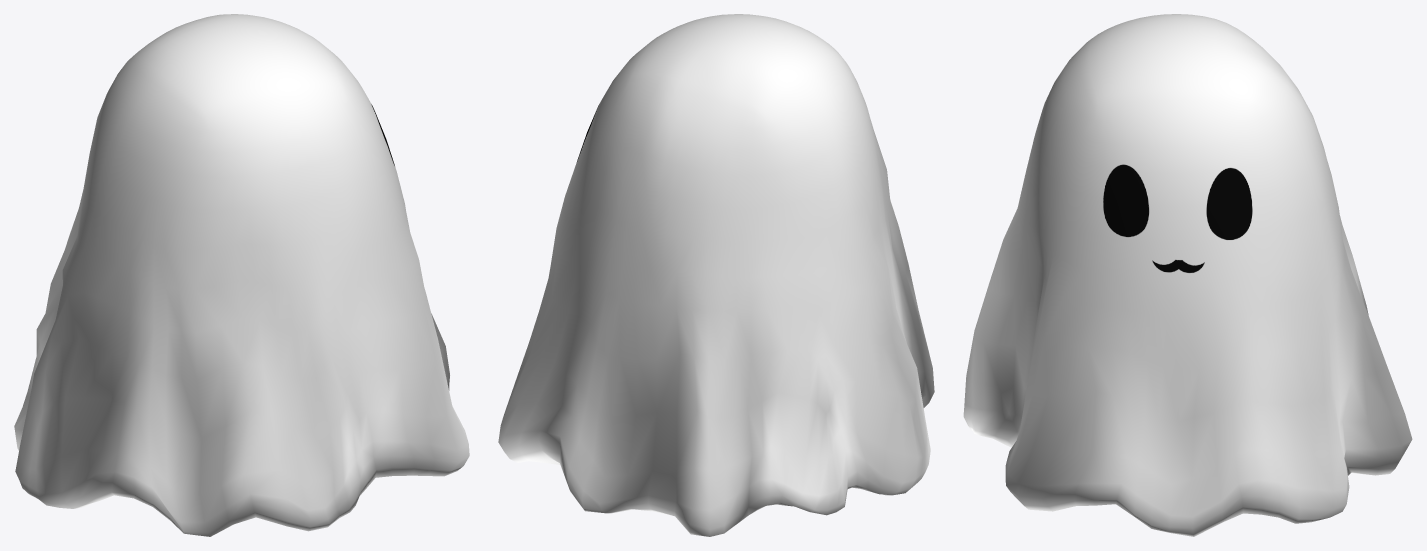
Rendered from Ghost.fbx.
The picture shows the model from 3 angles, left to right: view 1: azimuth 30°, elevation 25°; view 2: azimuth 150°, elevation 25°; view 3: azimuth 270°, elevation 25°; orthographic projection. The views are drawn at different scales.
Visible parts, largest first — view 1: Ghost; view 2: Ghost; view 3: Ghost.
Boxes of the visible parts, x1,y1,x2,y2 form: Ghost: [14, 14, 469, 536]; Ghost: [498, 14, 934, 536]; Ghost: [963, 14, 1412, 536].
Bounding box in the file's own units: 2.8 × 2.91 × 2.9.
1 material, 1 textured.
